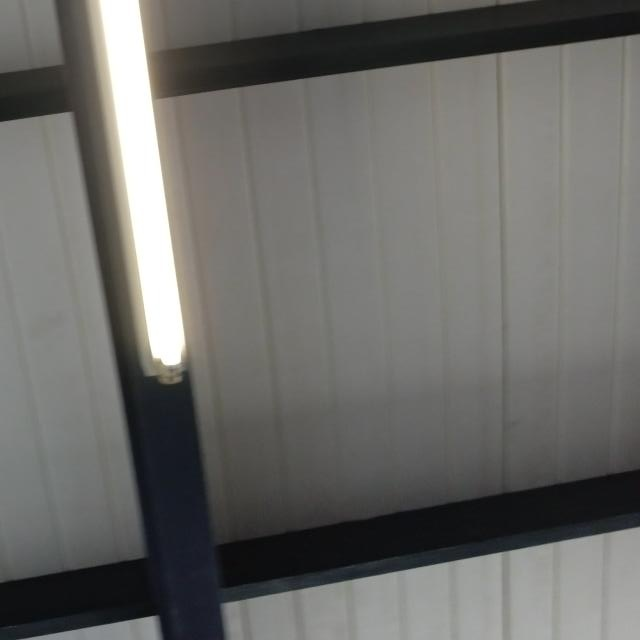fluorescent tube: (4, 0, 226, 417)
